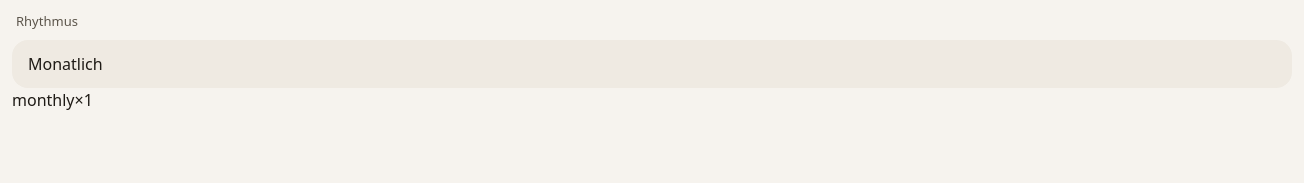
Test: typing a number that matches a preset keeps the custom field open
The width and height of the screenshot is (1304, 183).
Select "Alle N Monate …" in the dropdown labelled "Rhythmus" at point(652, 64), box [12,40,1292,88]
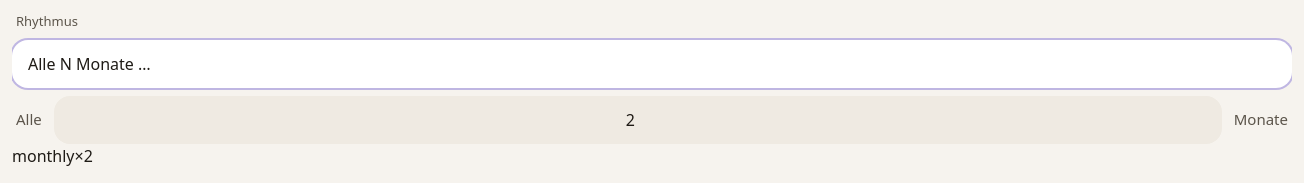
Replace the text in the number field named "Anzahl Monate" with "12" at point(638, 120), box [54,96,1222,144]
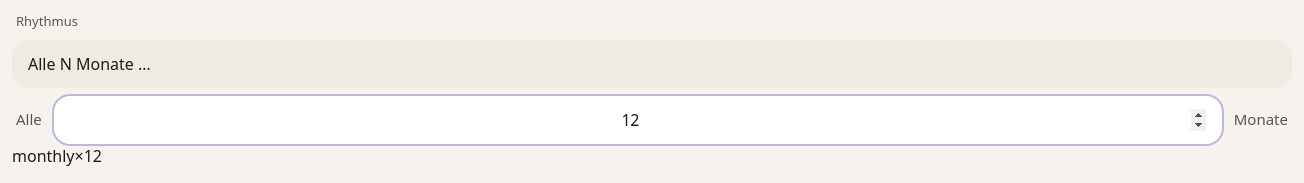
Expected: the text with test id "v" reads "monthly×12", [12,144,102,166]
